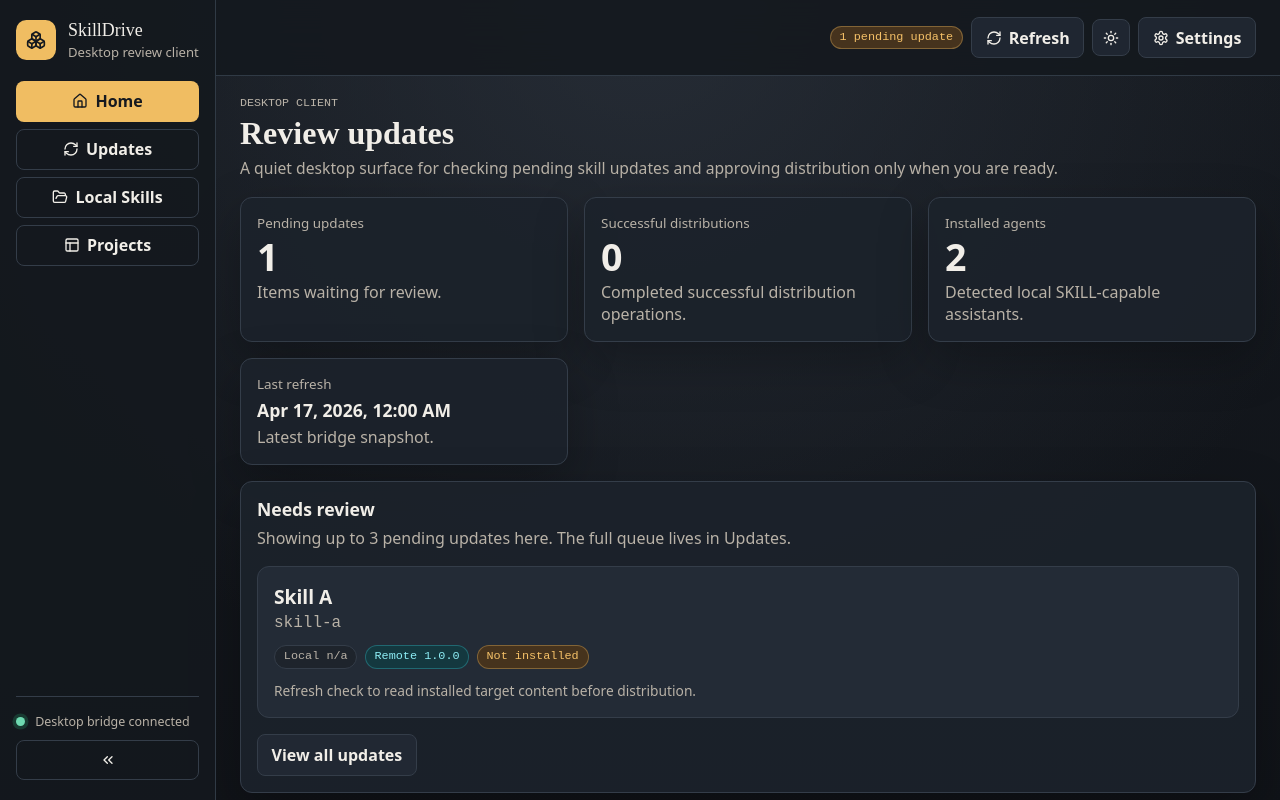
Test: App › does not show stale pre-distribution claims when the fingerprint mismatches
The width and height of the screenshot is (1280, 800).
Check: the text "Refresh check to read installed target content before distribution." is shown, box [274,681,696,700]
Click the button "Updates". click: coordinates (108, 149)
box: [16,129,199,170]
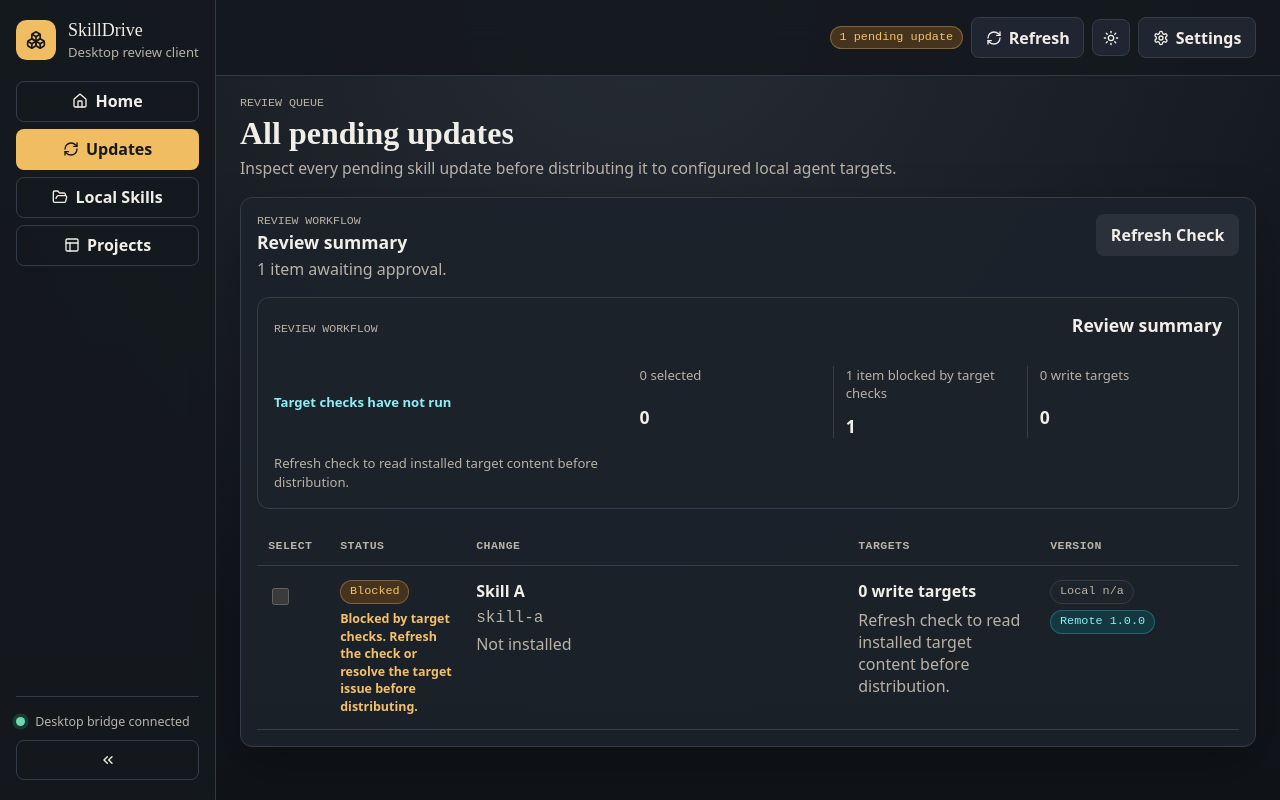
Check: the text "Target checks have not run" is shown, box [274,393,452,411]
